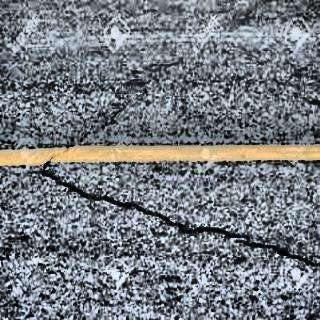crack: (33, 163, 320, 265)
